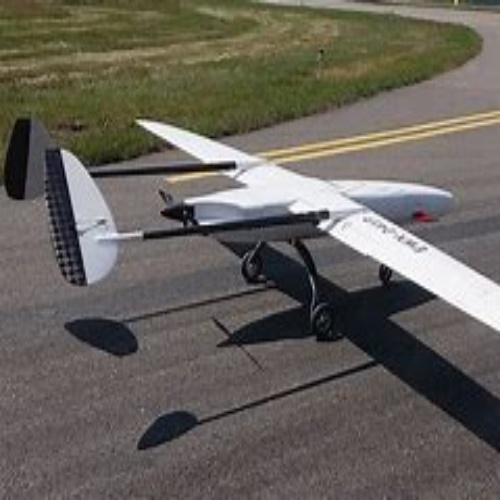uav: (1, 114, 500, 348)
